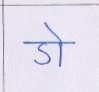o_matra: (54, 29, 65, 67)
